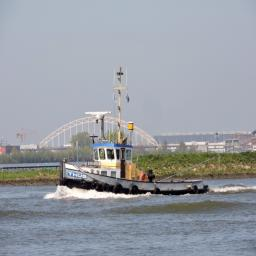tugboat: (58, 67, 212, 201)
